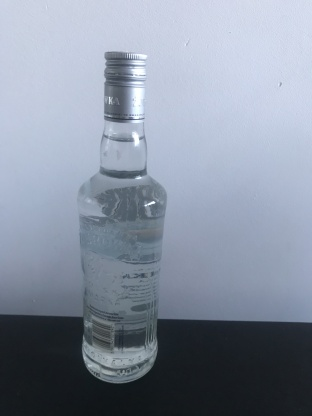nakretka: (102, 48, 147, 126)
